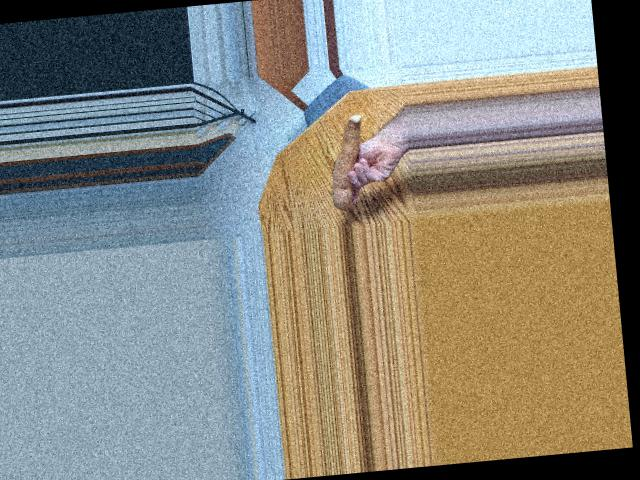sweet_potato: (319, 111, 371, 207)
